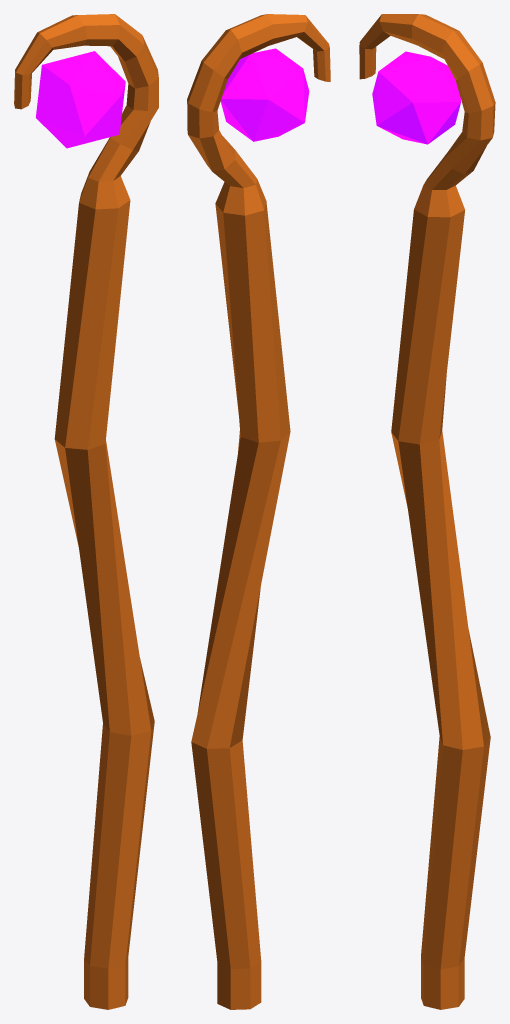
The model's file is Staff.fbx.
3 renders of one model, left to right at view 1: azimuth 30°, elevation 25°; view 2: azimuth 210°, elevation 25°; view 3: azimuth 330°, elevation 25°, orthographic.
Visible parts, largest first — view 1: Cylinder, Icosphere; view 2: Cylinder, Icosphere; view 3: Cylinder, Icosphere.
Boxes of the visible parts, left/top/right/bottom form: Cylinder: left=14, top=14, right=158, bottom=1009; Icosphere: left=35, top=51, right=125, bottom=148; Cylinder: left=187, top=14, right=330, bottom=1009; Icosphere: left=220, top=48, right=309, bottom=141; Cylinder: left=359, top=14, right=495, bottom=1009; Icosphere: left=372, top=51, right=461, bottom=144.
Size of the model in its own units: 106 by 724 by 59.24.
